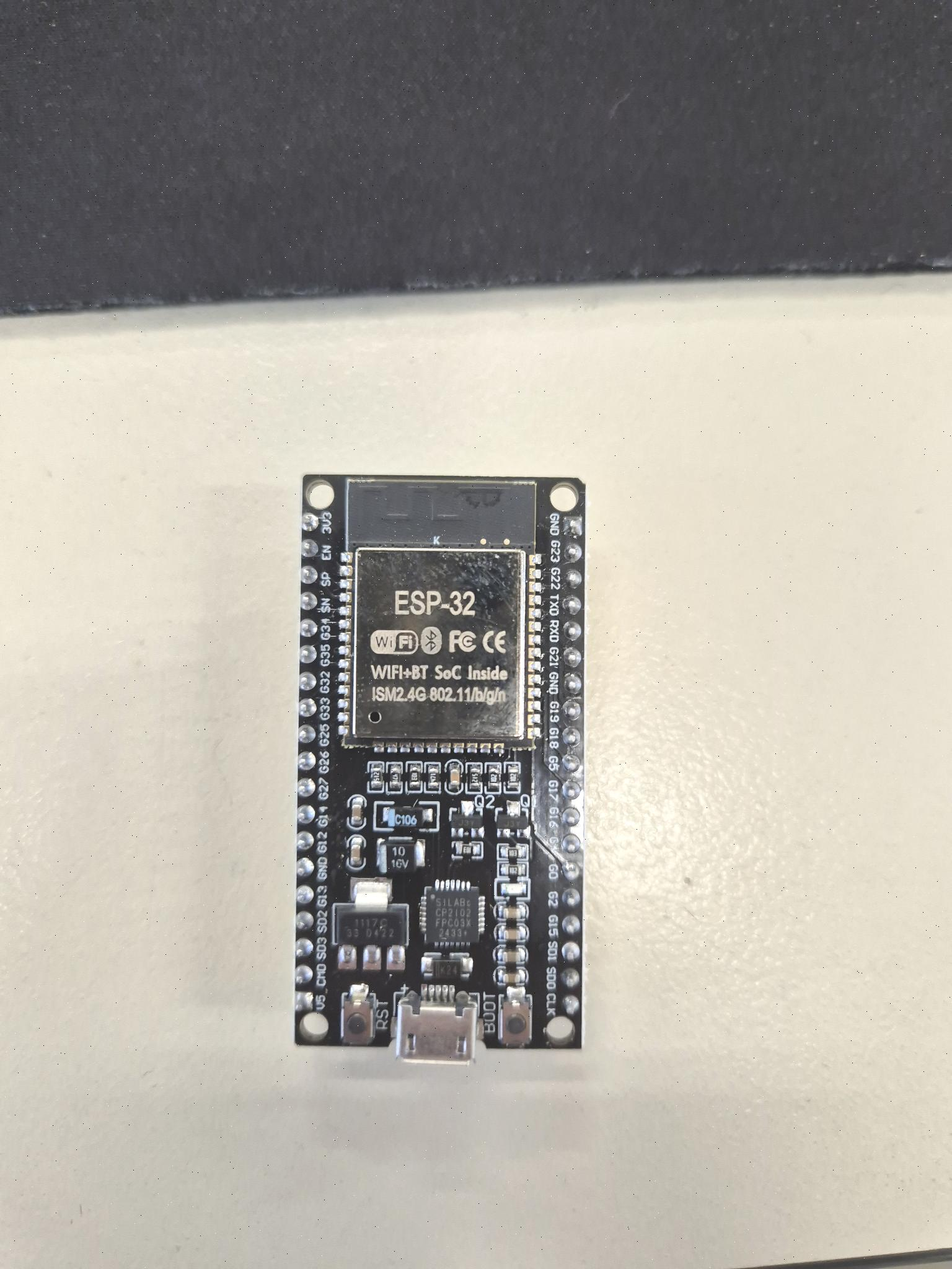esp32-dev: (295, 476, 585, 1062)
